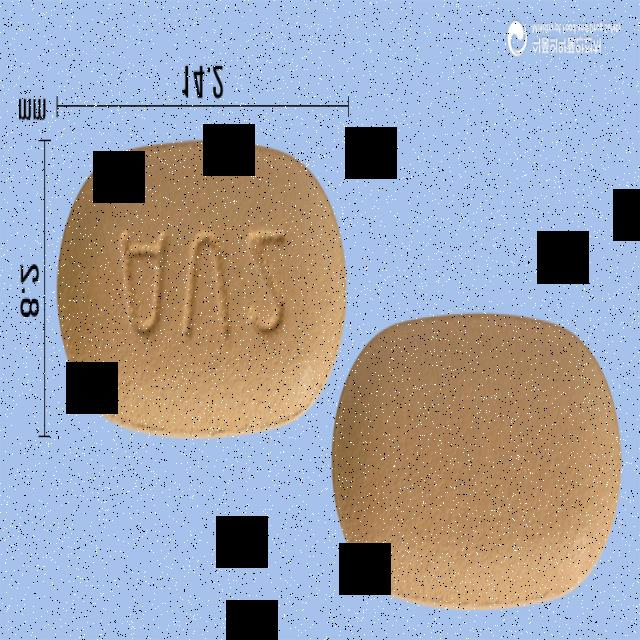Exviera: (56, 138, 348, 440), (332, 314, 622, 610)
